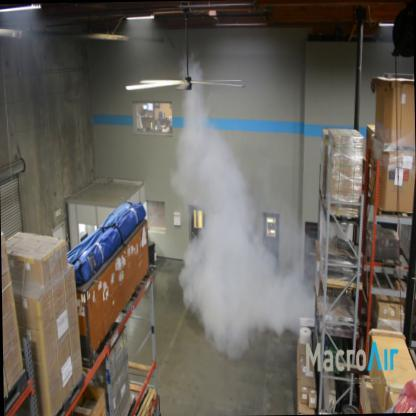smoke: (167, 107, 297, 360)
